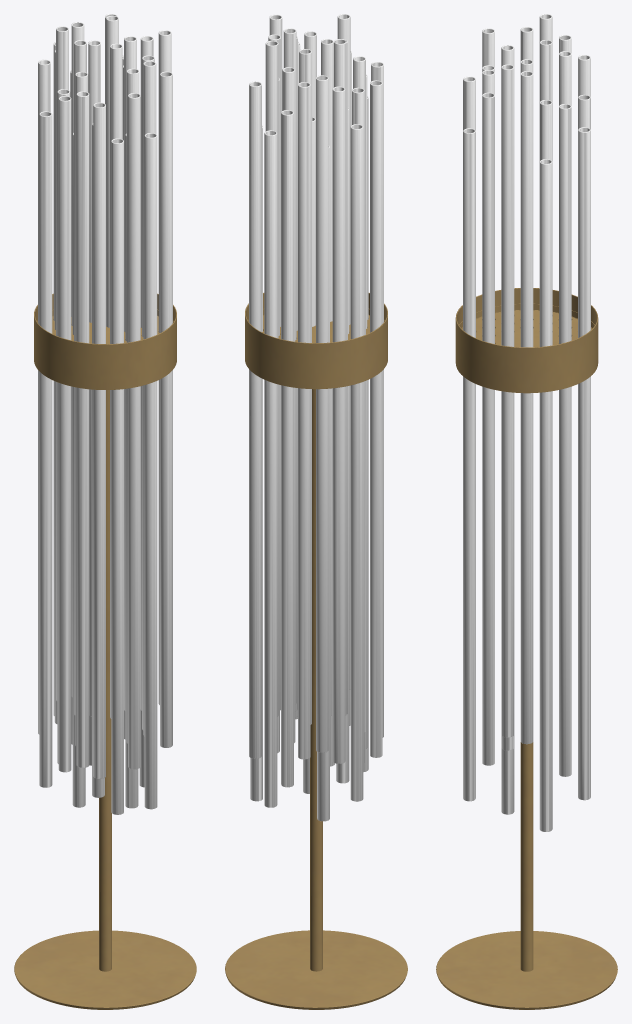
The model's file is paolo_castelli.gltf.
The picture shows the model from 3 angles, left to right: view 1: azimuth 30°, elevation 25°; view 2: azimuth 150°, elevation 25°; view 3: azimuth 270°, elevation 25°; orthographic projection.
Visible parts, largest first — view 1: Paolo_Castelli_My_Lamp_Floor_mat2 (×2); view 2: Paolo_Castelli_My_Lamp_Floor_mat2 (×2); view 3: Paolo_Castelli_My_Lamp_Floor_mat2 (×2).
Boxes of the visible parts, box(x1,y1,x2,y2) form: Paolo_Castelli_My_Lamp_Floor_mat2 (×2): box(14, 14, 196, 1009); Paolo_Castelli_My_Lamp_Floor_mat2 (×2): box(225, 14, 407, 1009); Paolo_Castelli_My_Lamp_Floor_mat2 (×2): box(436, 14, 617, 1009).
Bounding box in the file's own units: 0.37 × 2.11 × 0.37.
Materials: 2 (2 with a texture image).
